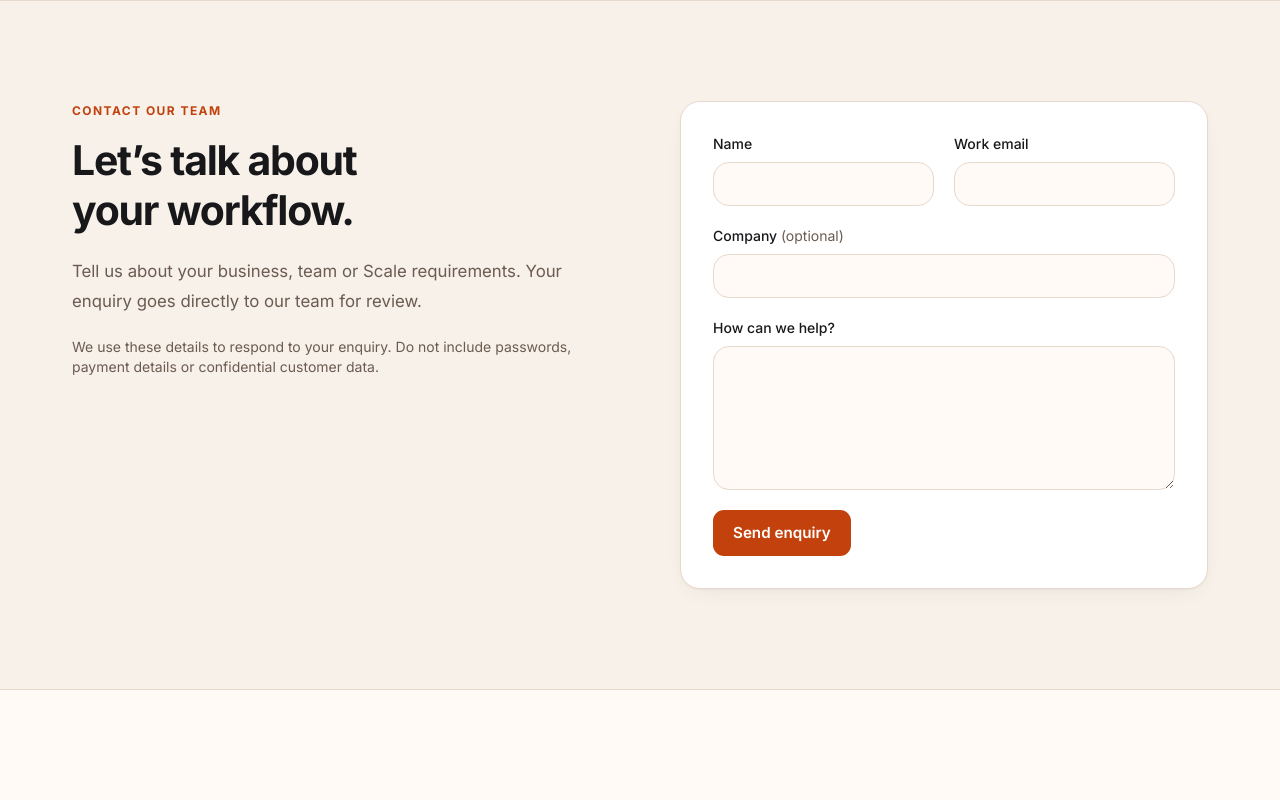
Test case: Contact form › shows a useful fallback for non-JSON errors rather than a parser error
This screenshot has width=1280, height=800.
Type "Alex Example" into the field labelled "Name" at coordinates (824, 184), box x1=713 y1=162 x2=934 y2=206
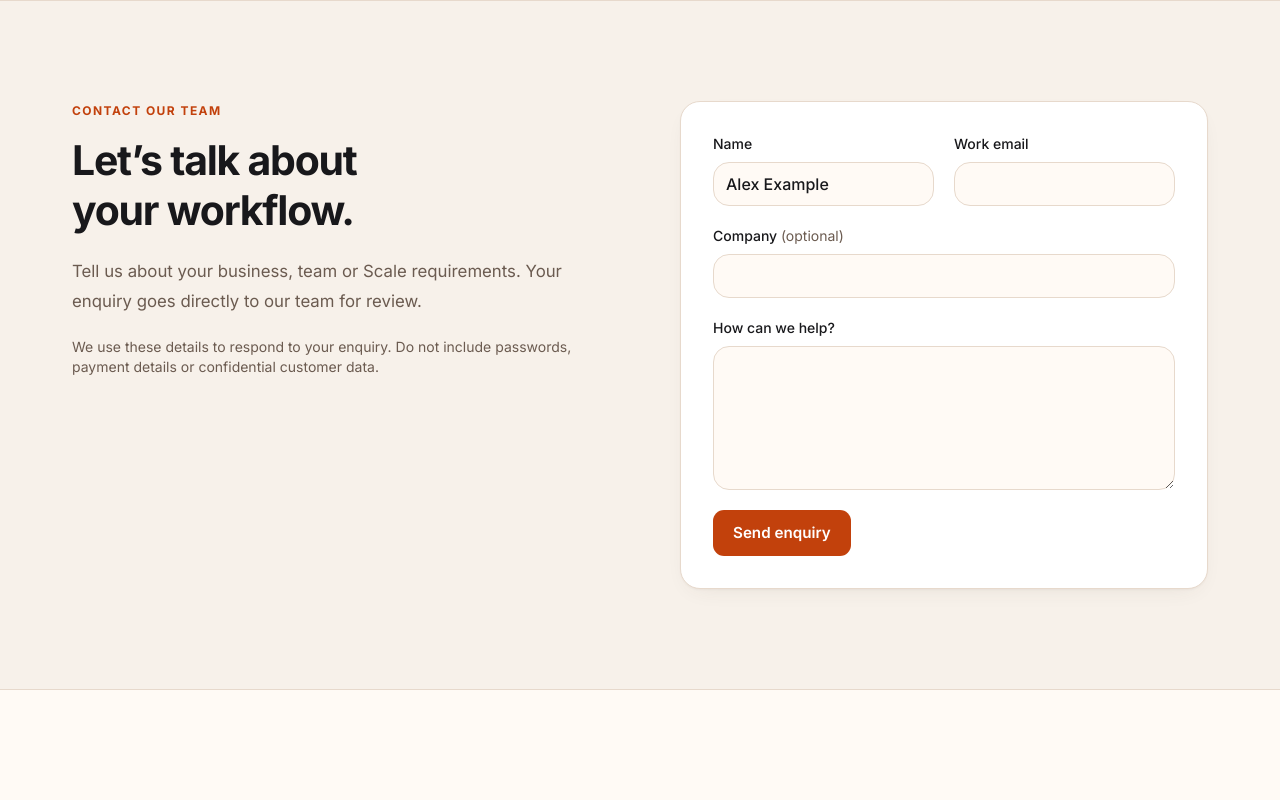
Type "alex@example.com" into the field labelled "Work email" at coordinates (1064, 184), box x1=954 y1=162 x2=1175 y2=206
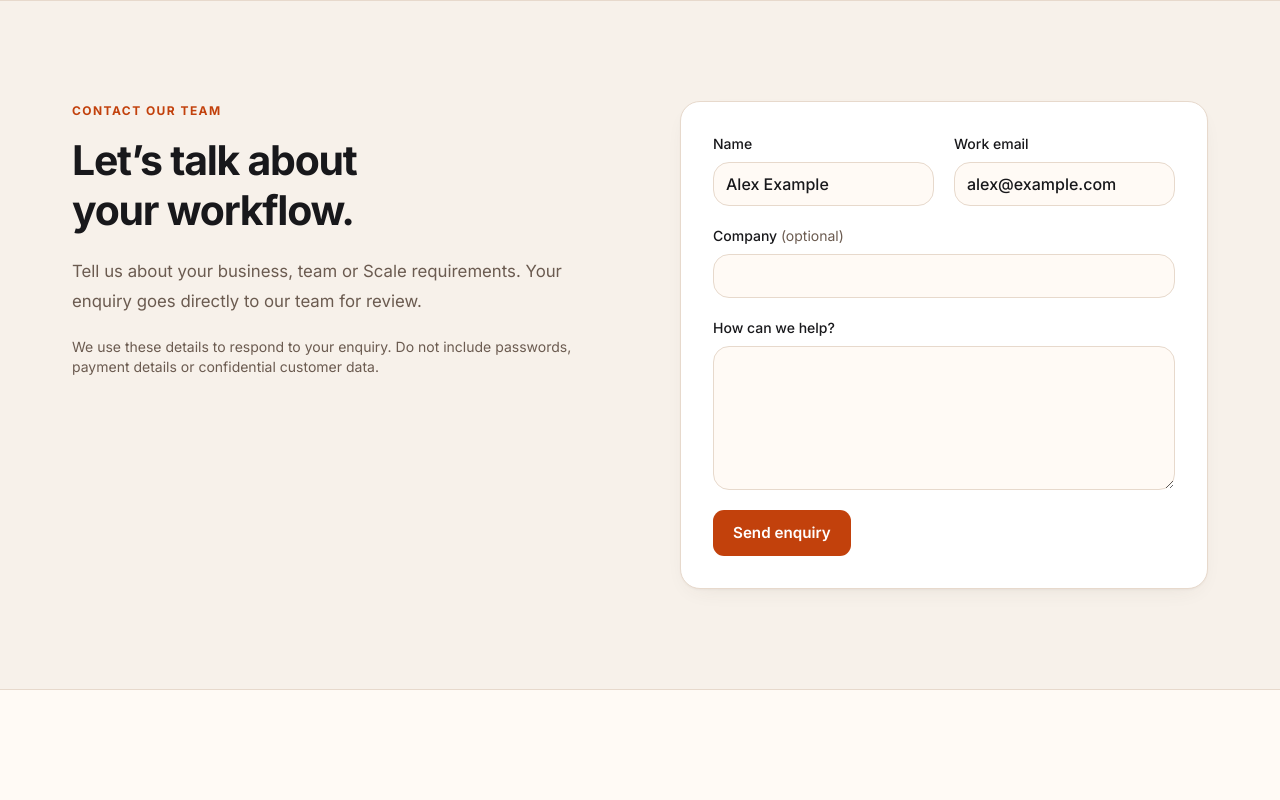
Type "Example Team" into the field labelled "Company (optional)" at coordinates (944, 276), box x1=713 y1=254 x2=1175 y2=298
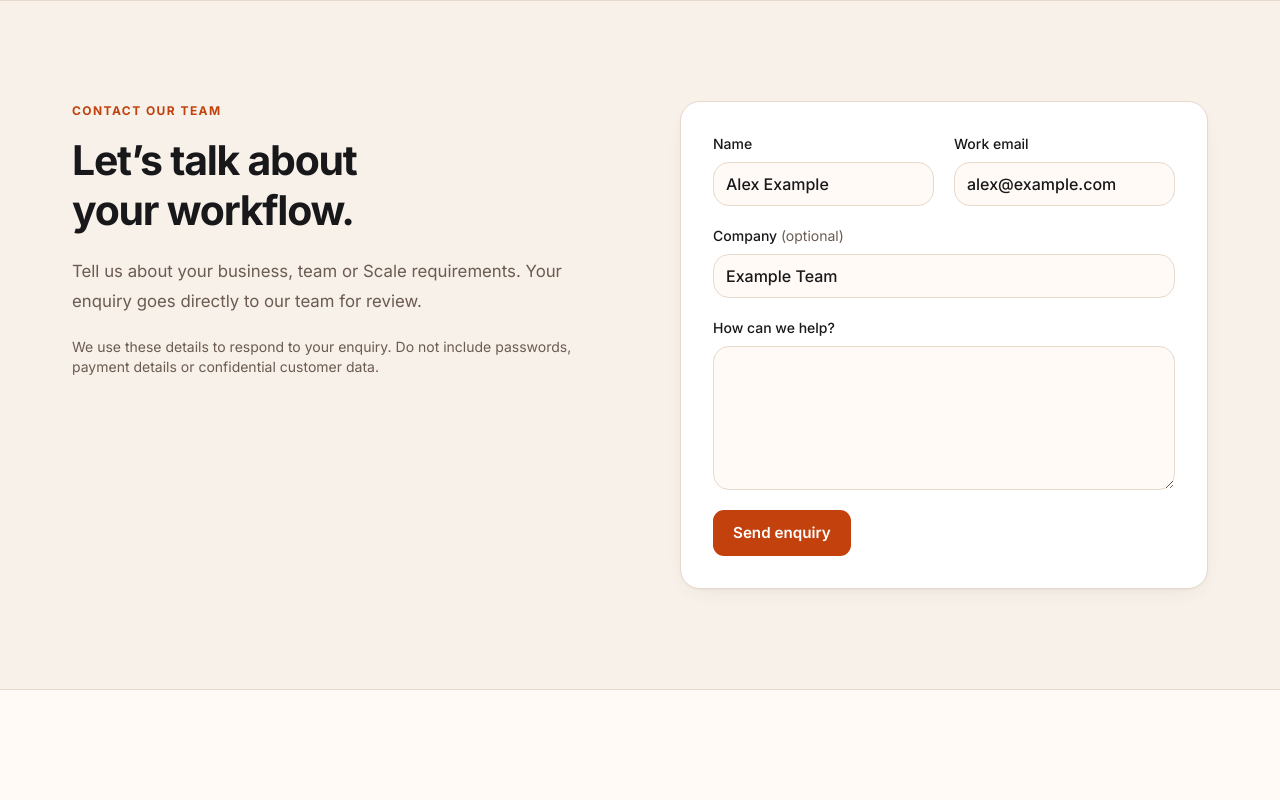
Type "We would like to discuss the Scale plan." into the text box labelled "How can we help?" at coordinates (944, 418), box x1=713 y1=346 x2=1175 y2=490
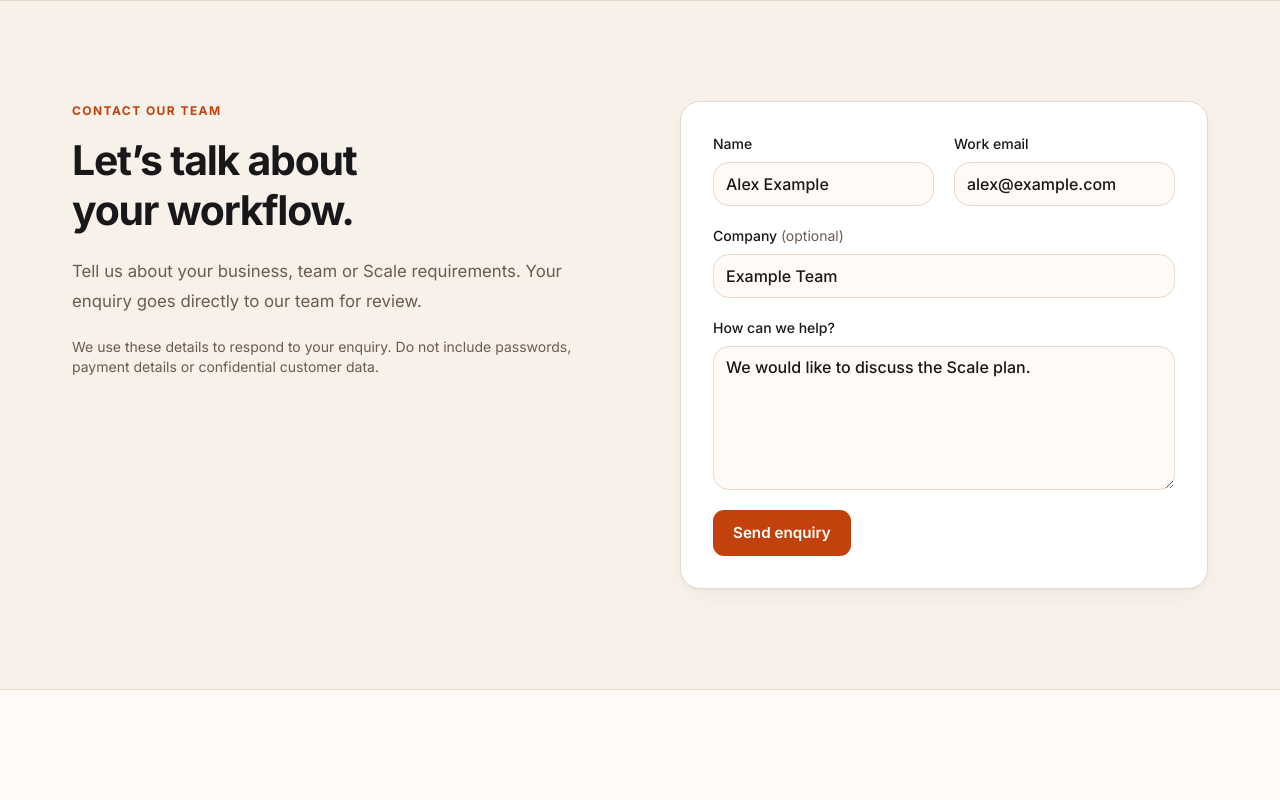
Submit the form "Send enquiry", box x1=680 y1=101 x2=1208 y2=589
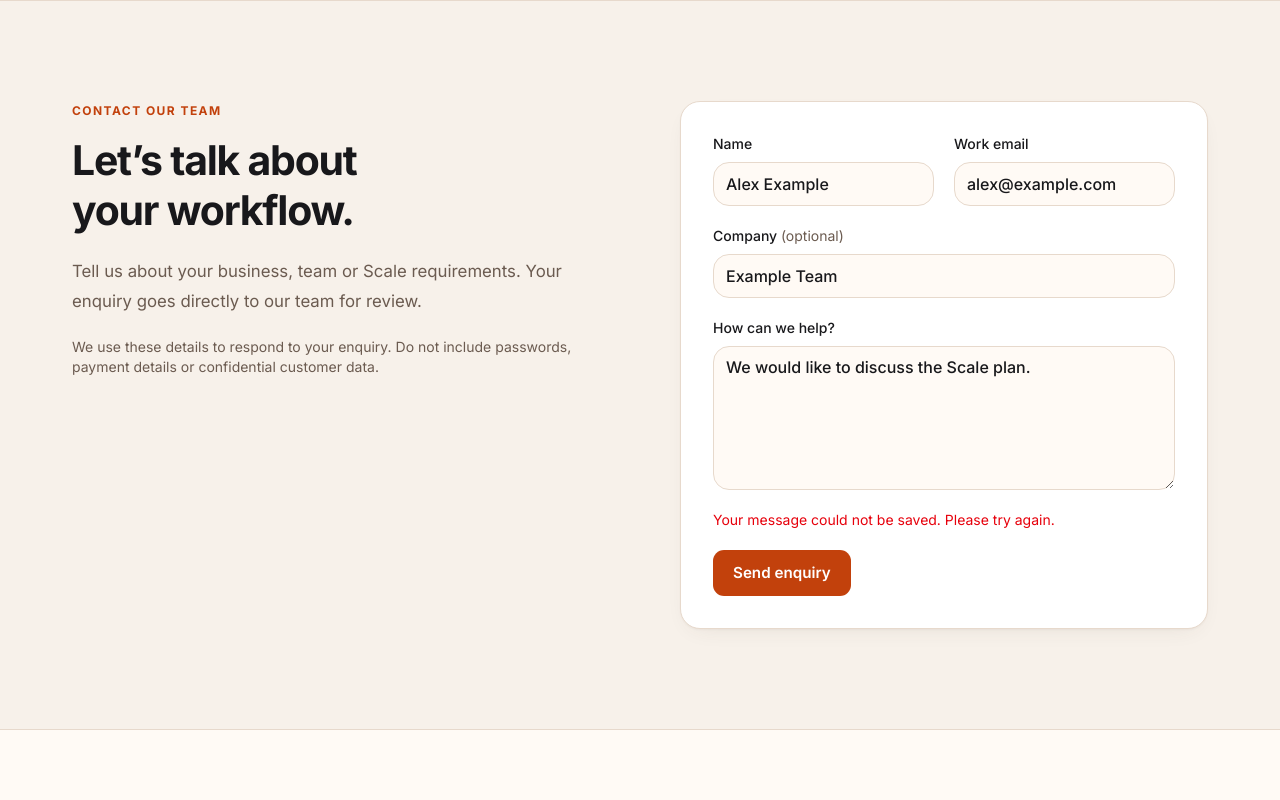
Expected: the message reads "Your message could not be saved. Please try again.", x1=713 y1=511 x2=1055 y2=528
